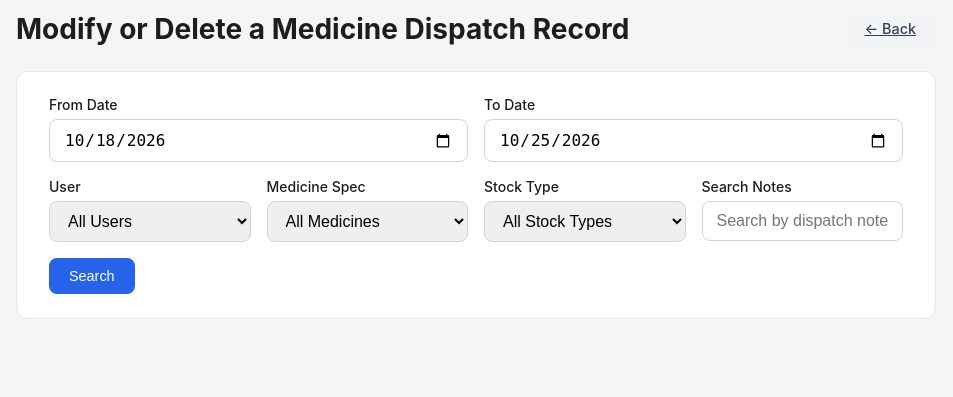
Test: AdminEditDispatch — search › shows error alert when search fails
The width and height of the screenshot is (953, 397).
Click the button "Search": {"x": 92, "y": 276} [49,258,135,294]
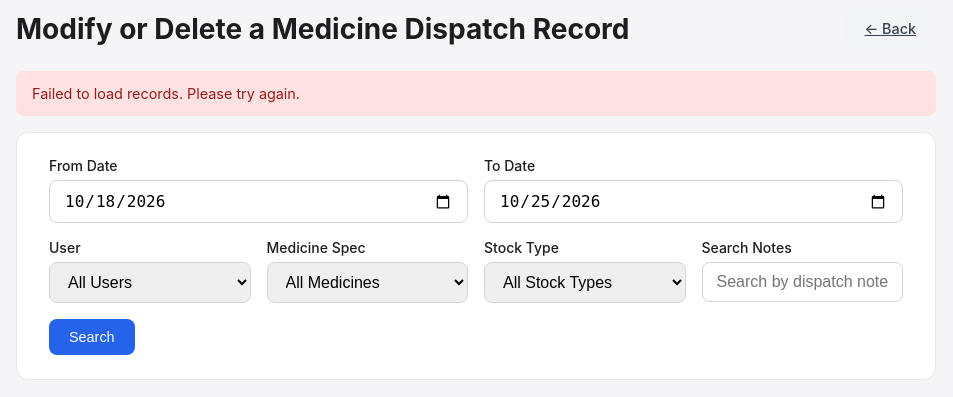
Check: the message shows "Failed to load records", box [32,85,300,102]
